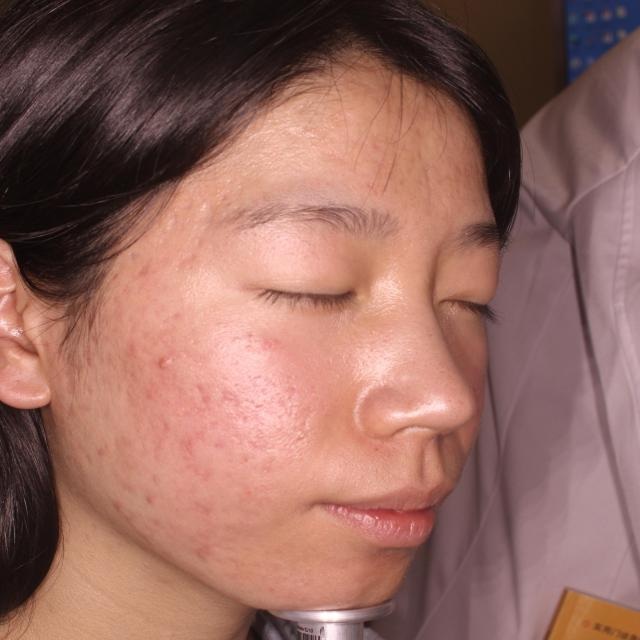pustule: (186, 495, 229, 537), (117, 337, 156, 370), (154, 350, 186, 380), (60, 342, 96, 367), (112, 496, 136, 525), (194, 387, 223, 410), (138, 486, 164, 504)
